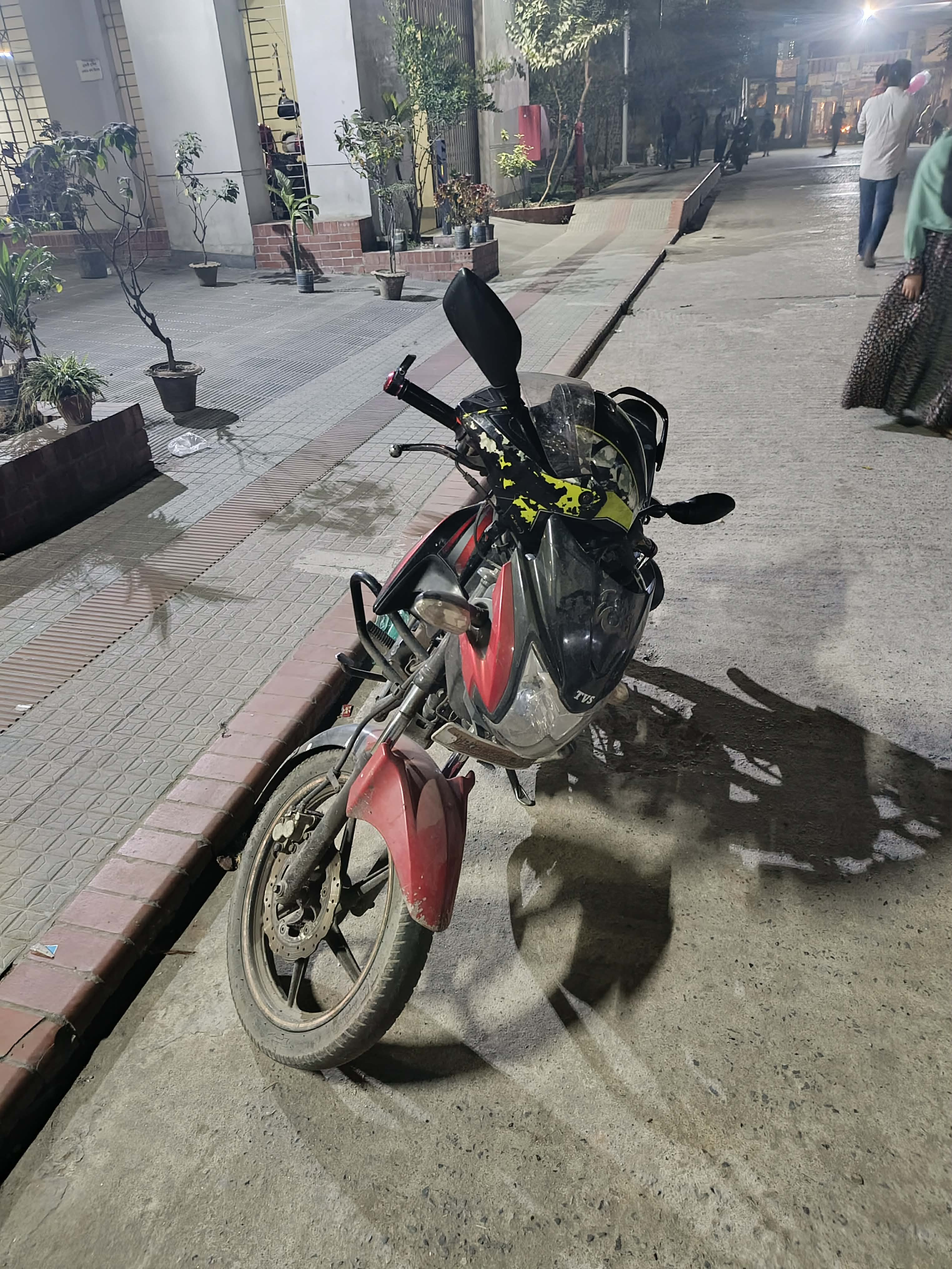Bikes: (222, 216, 706, 1101)
